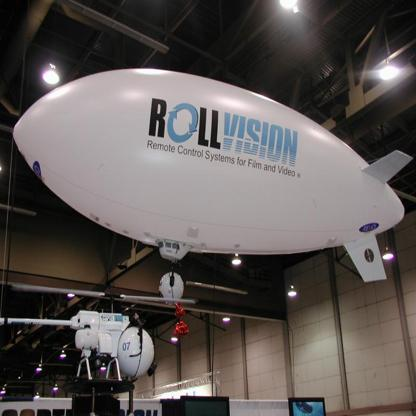Airship: (12, 69, 412, 295)
